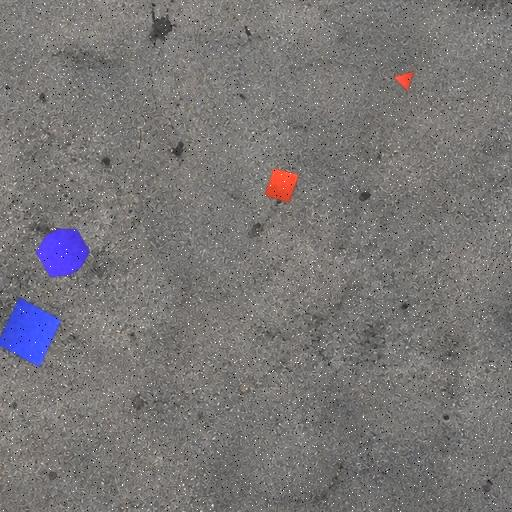BLUE_SQUARE: (0, 297, 62, 368)
RED_SQUARE: (264, 167, 300, 203)
